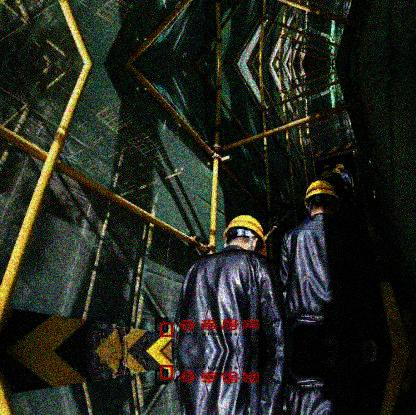helmet: (223, 213, 265, 254), (304, 180, 341, 218), (331, 168, 342, 178)
